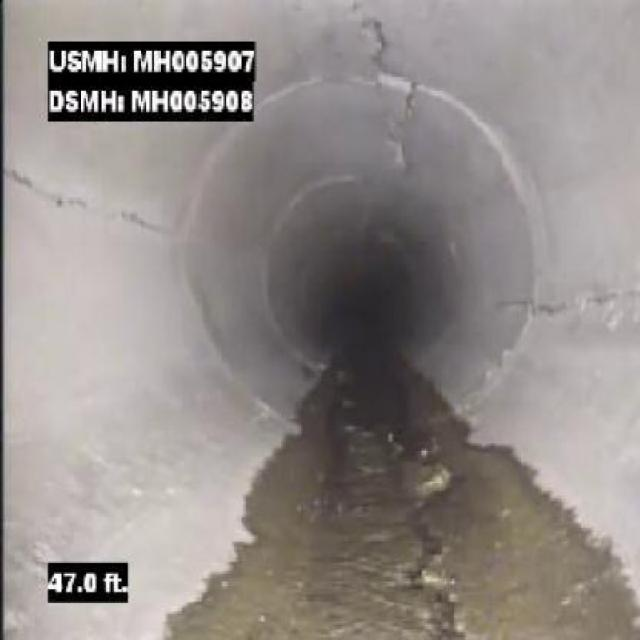Buckling: (394, 508, 469, 638), (372, 426, 465, 506)
Crack: (17, 156, 175, 250), (346, 4, 434, 170), (497, 280, 631, 331)
